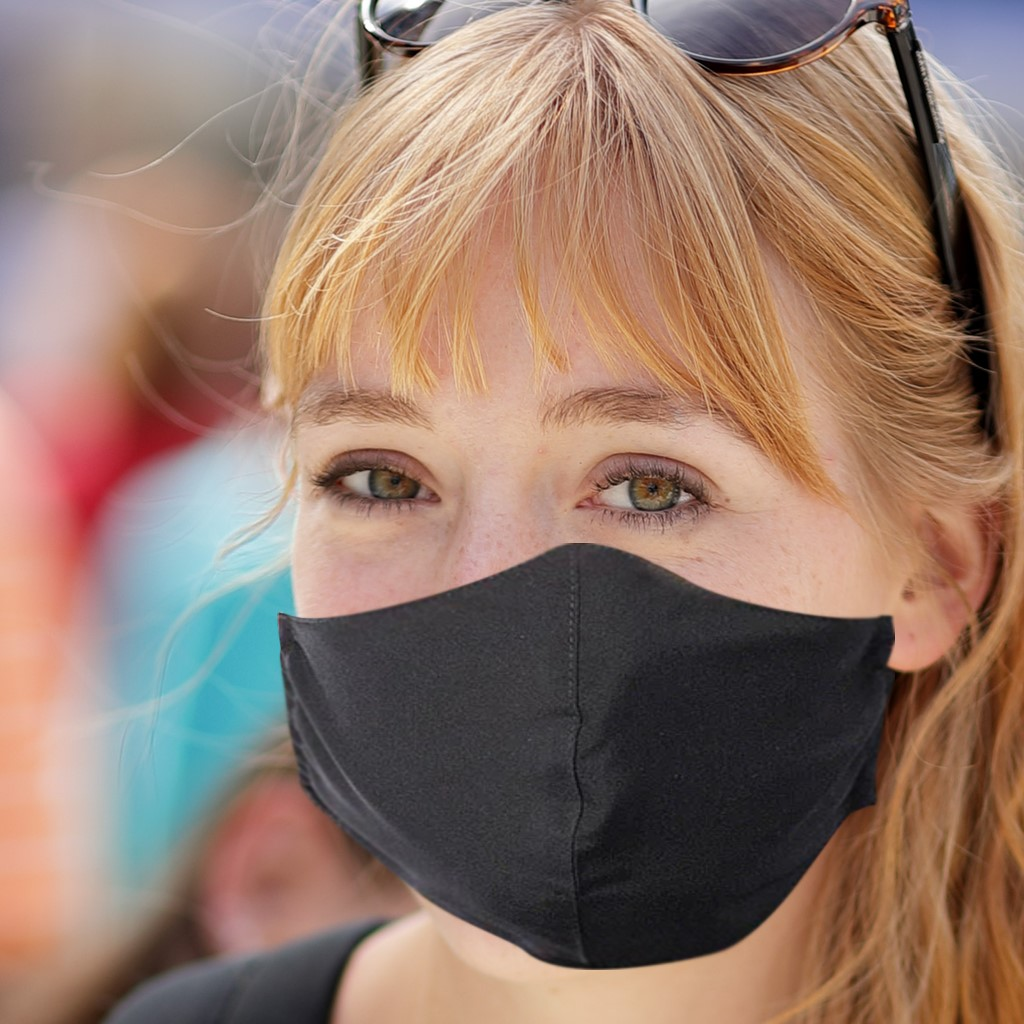con_mascara: (276, 136, 912, 964)
